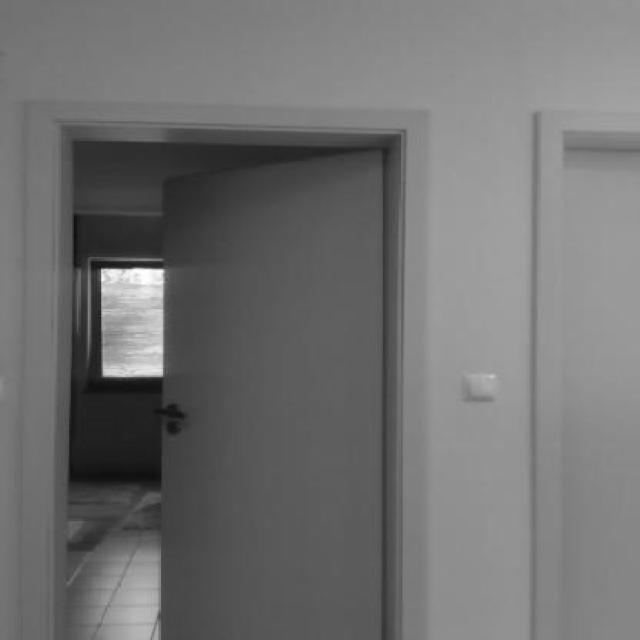door_handle: (149, 402, 197, 427)
